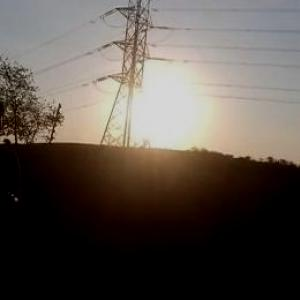follow: (0, 91, 29, 299)
